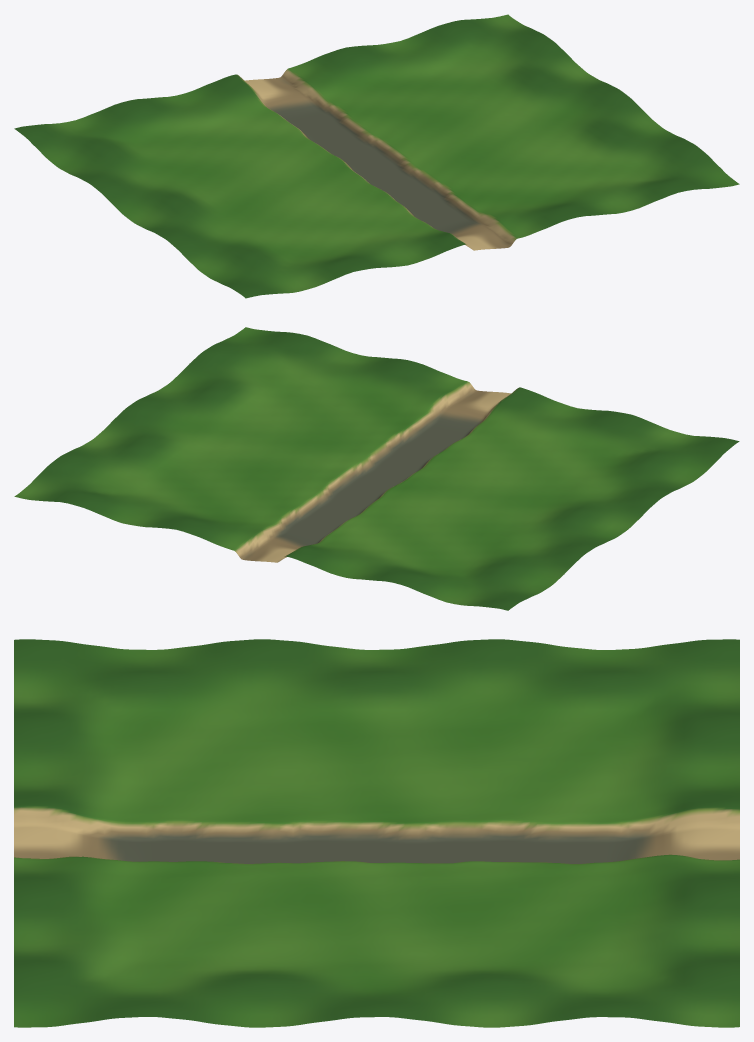
Rendered from terrain.glb.
3 renders of one model, top to bottom at view 1: azimuth 30°, elevation 25°; view 2: azimuth 150°, elevation 25°; view 3: azimuth 270°, elevation 25°, orthographic. The views are drawn at different scales.
Visible parts, largest first — view 1: Terrain; view 2: Terrain; view 3: Terrain.
Boxes of the visible parts, x1,y1,x2,y2 form: Terrain: (14, 14, 739, 298); Terrain: (14, 327, 739, 610); Terrain: (14, 639, 739, 1027).
Size of the model in its own units: 64 by 2.12 by 52.
